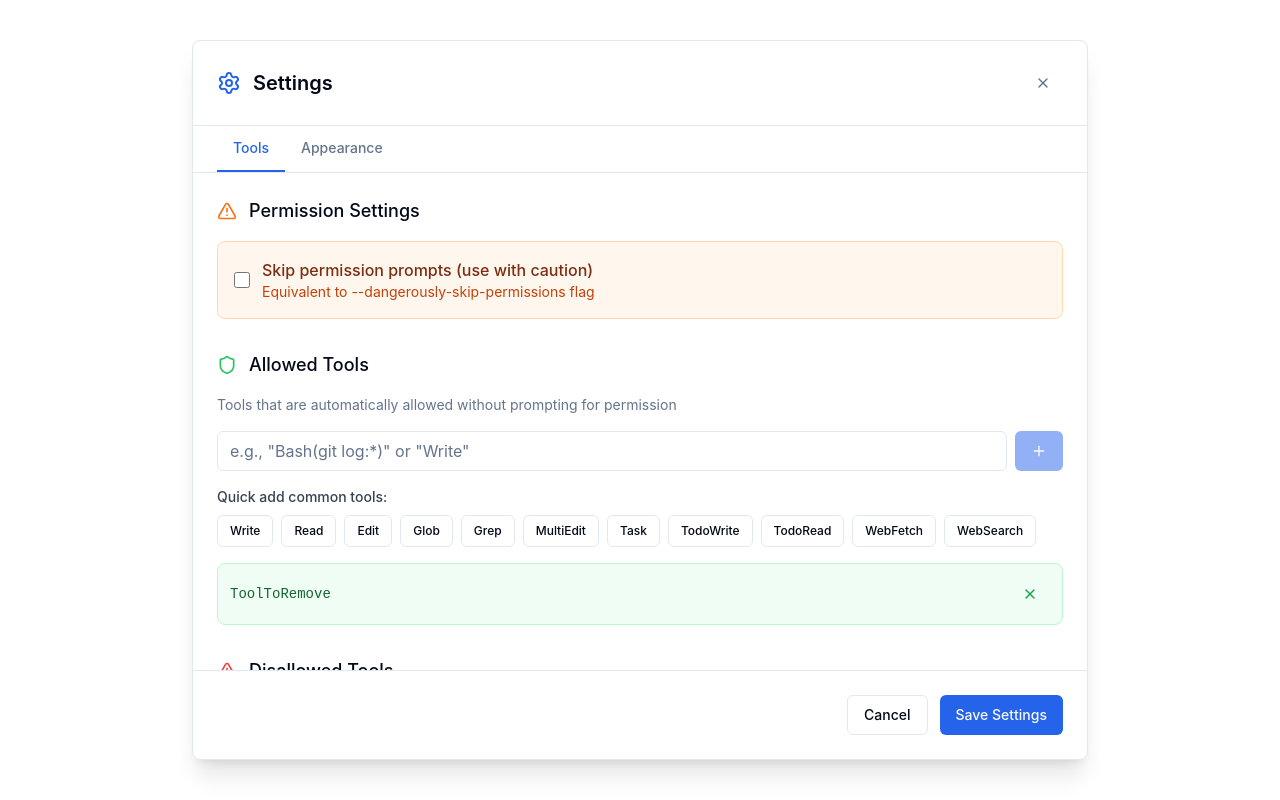
Test case: Settings Component › Modal Actions › should save settings and show success message when Save clicked
The image size is (1280, 800).
Click the button "Save Settings". click: (1001, 715)
box: [940, 695, 1063, 735]
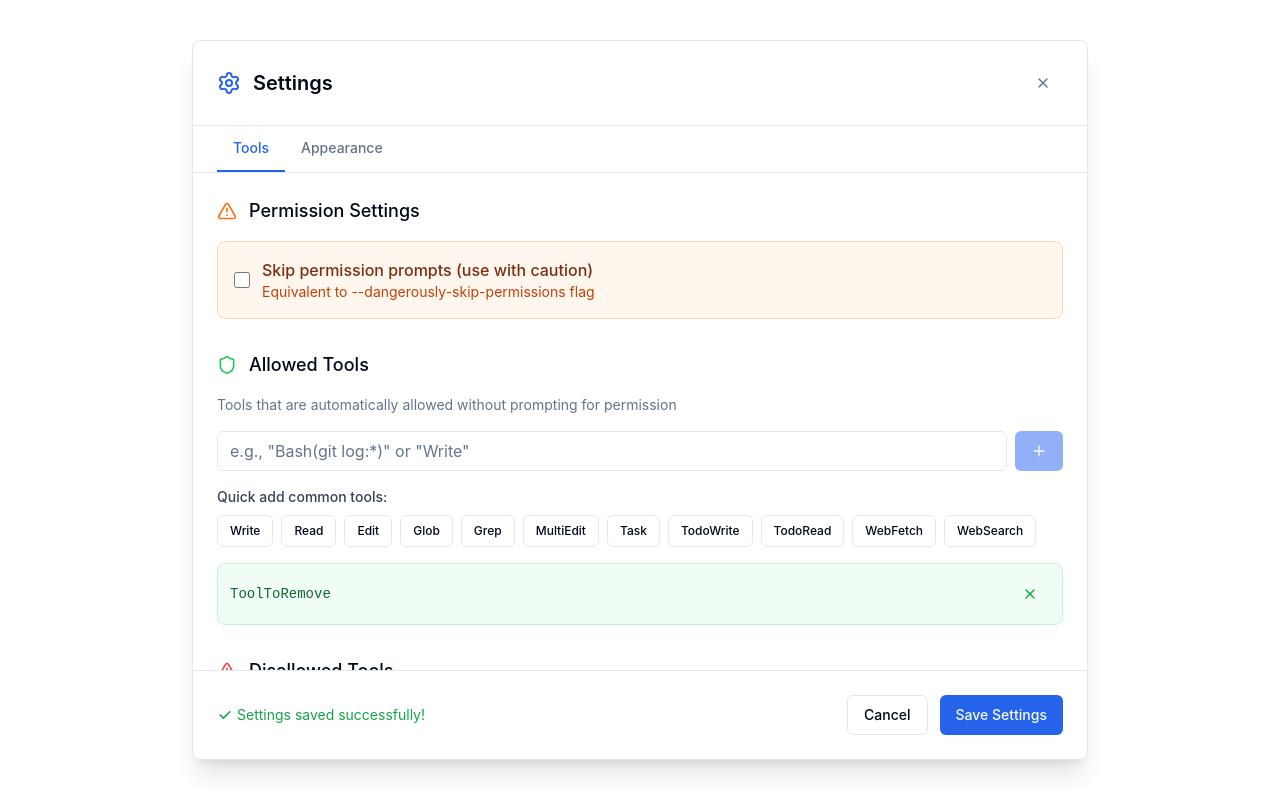
Check: the text "Settings saved successfully!" is shown, box [217, 705, 425, 725]
